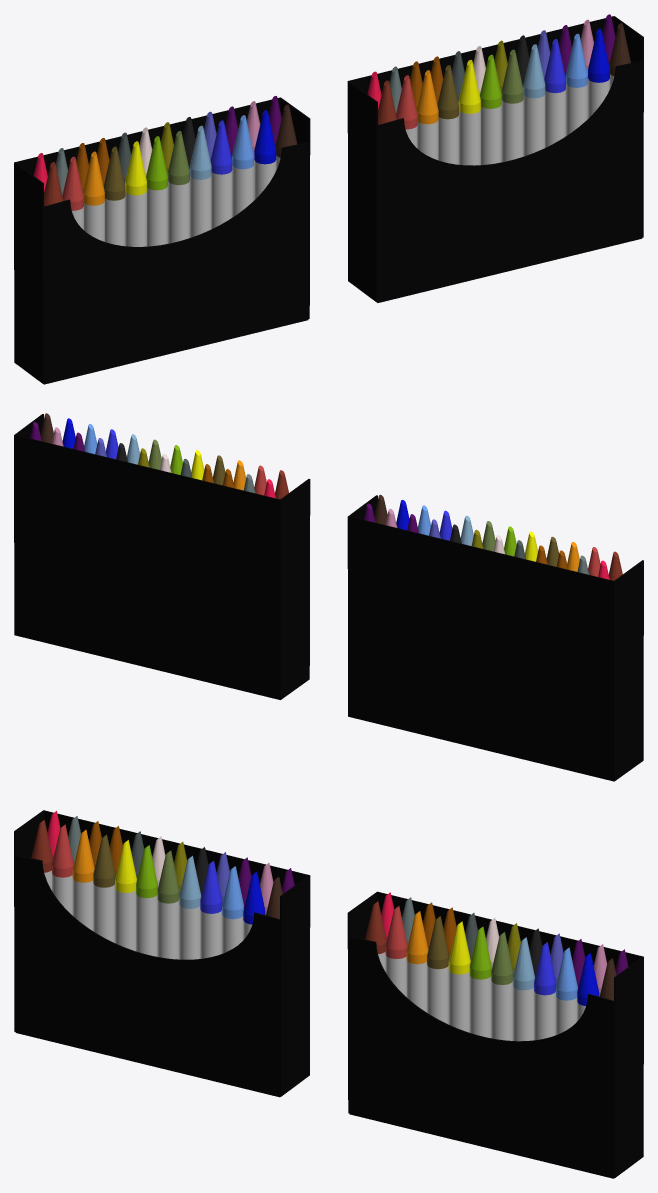
3 renders of one model, top to bottom at view 1: azimuth 30°, elevation 25°; view 2: azimuth 150°, elevation 25°; view 3: azimuth 330°, elevation 25°, orthographic.
Parts seen in each view (by area): view 1: Collapse_Acc_Off_002, BOX, BOX01, greengoldw, wrap05, wrap07, wrap08, wrap04, wrap09, wrap03, crayon23, crayon20 (+12 smaller); view 2: Collapse_Acc_Off_002, BOX01; view 3: Collapse_Acc_Off_002, BOX, BOX01, greengoldw, wrap07, wrap08, wrap05, wrap09, wrap04, wrap10, greengold, crayon16 (+11 smaller).
Boxes of the visible parts, x1,y1,x2,y2 form: Collapse_Acc_Off_002: (347,14,643,302); BOX: (43,142,308,384); BOX01: (14,97,310,383); greengoldw: (168,181,189,243); wrap05: (190,176,211,237); wrap07: (147,186,167,246); wrap08: (125,191,146,246); wrap04: (211,170,232,228); wrap09: (105,196,125,246); wrap03: (232,165,253,217); crayon23: (254,110,276,164); crayon20: (189,125,211,179); Collapse_Acc_Off_002: (14,413,310,699); BOX01: (347,495,643,781); Collapse_Acc_Off_002: (347,891,643,1178); BOX: (15,855,280,1097); BOX01: (14,810,310,1096); greengoldw: (157,900,179,959); wrap07: (136,894,157,956); wrap08: (115,889,135,951); wrap05: (179,905,200,959); wrap09: (93,883,114,942); wrap04: (200,910,221,958); wrap10: (72,878,93,930); greengold: (157,850,179,903); crayon16: (93,834,115,887).
Bounding box in the file's own units: 551 × 185 × 46.09.
